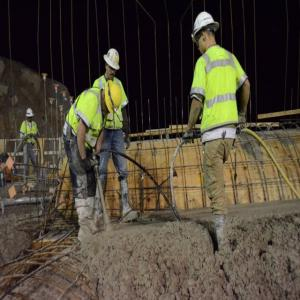white: (194, 12, 218, 56), (105, 48, 121, 79), (26, 108, 35, 122)
yellow: (103, 81, 123, 115)
